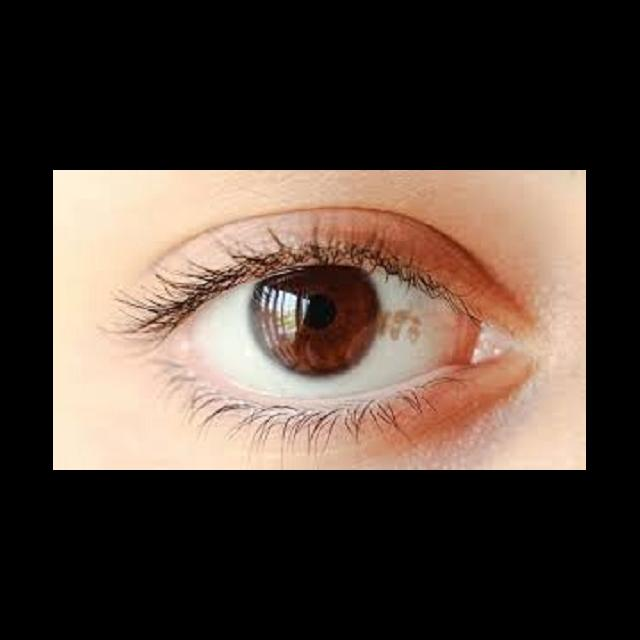eye: (172, 262, 466, 403)
iris: (247, 266, 382, 379)
